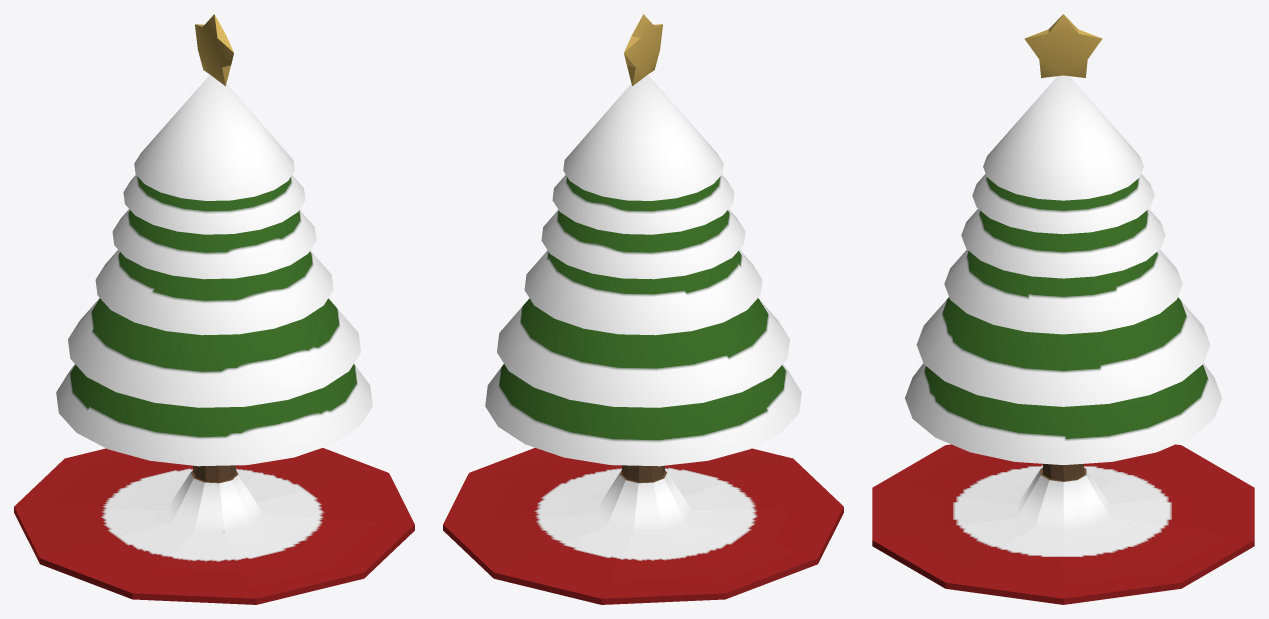
File: ChristmasTree.fbx
The picture shows the model from 3 angles, left to right: view 1: azimuth 30°, elevation 25°; view 2: azimuth 150°, elevation 25°; view 3: azimuth 270°, elevation 25°; orthographic projection.
Visible parts, largest first — view 1: ChristmasTree; view 2: ChristmasTree; view 3: ChristmasTree.
Part boxes in pixels (<box>): ChristmasTree: <box>14,14,414,604</box>; ChristmasTree: <box>443,14,843,604</box>; ChristmasTree: <box>872,14,1254,604</box>.
Bounding box in the file's own units: 5.97 × 8.3 × 5.68.
1 material, 1 textured.
